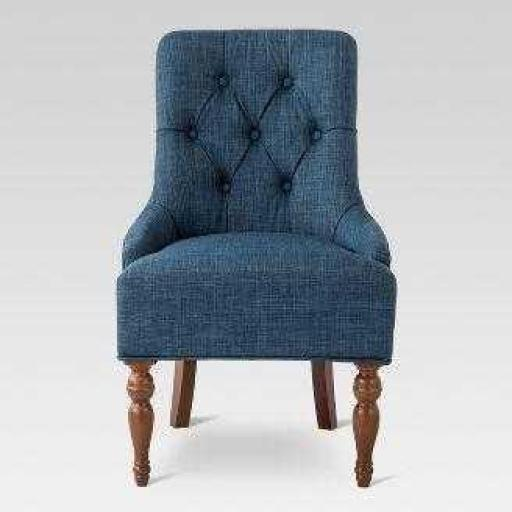chair: (104, 22, 408, 507)
